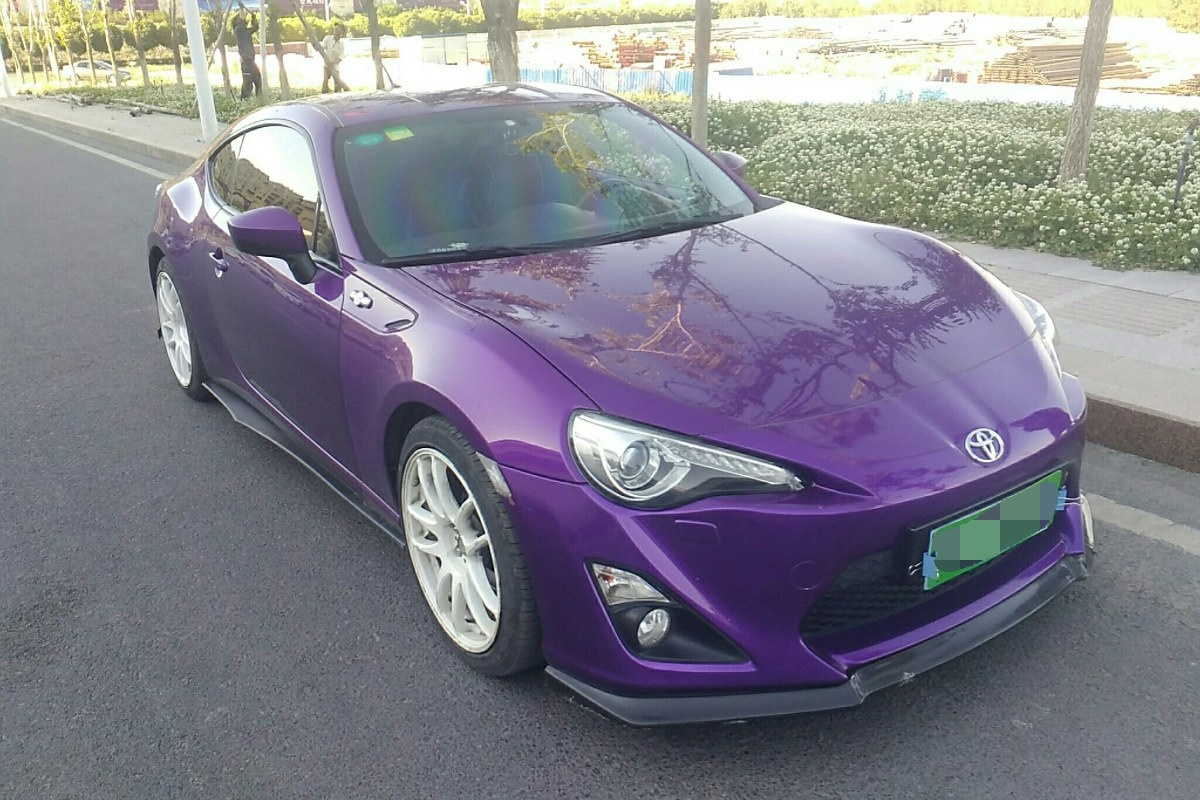family sedan: (122, 73, 1099, 731)
